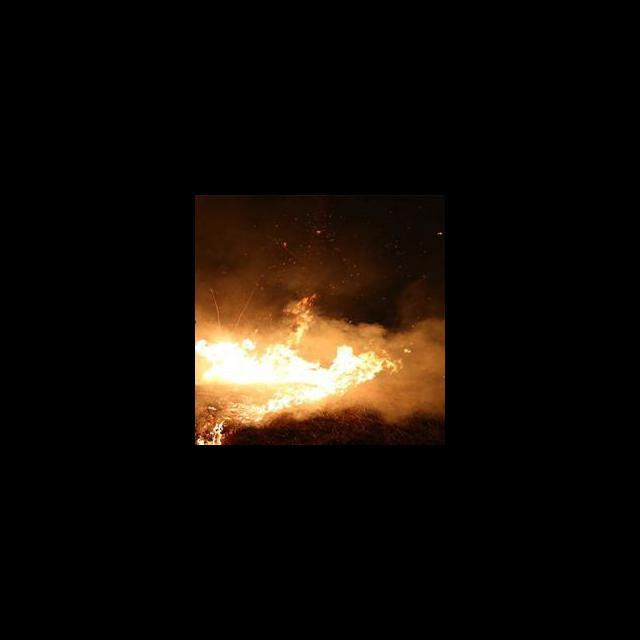Fire: (196, 332, 397, 419), (195, 422, 227, 445)
